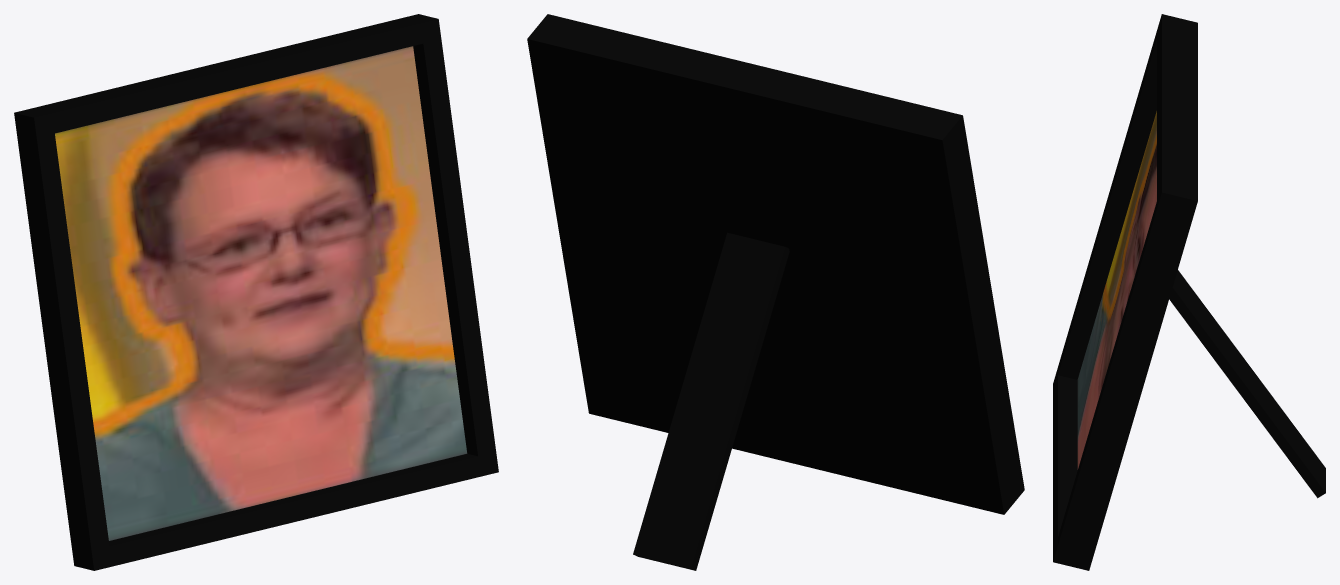
The model's file is fotolijstje.fbx.
3 views of the same model, side by side, from view 1: azimuth 30°, elevation 25°; view 2: azimuth 150°, elevation 25°; view 3: azimuth 270°, elevation 25° (orthographic). The views are drawn at different scales.
Parts seen in each view (by area): view 1: Cube.001, Cube; view 2: Cube, Plane; view 3: Cube, Cube.001, Plane.
Boxes of the visible parts, bbox=[...] form: Cube.001: bbox=[55, 46, 467, 540]; Cube: bbox=[14, 14, 498, 570]; Cube: bbox=[527, 14, 1024, 514]; Plane: bbox=[633, 232, 789, 570]; Cube: bbox=[1053, 14, 1197, 570]; Cube.001: bbox=[1077, 111, 1156, 469]; Plane: bbox=[1169, 270, 1325, 498].
Size of the model in its own units: 39.99 by 39.97 by 25.84.
